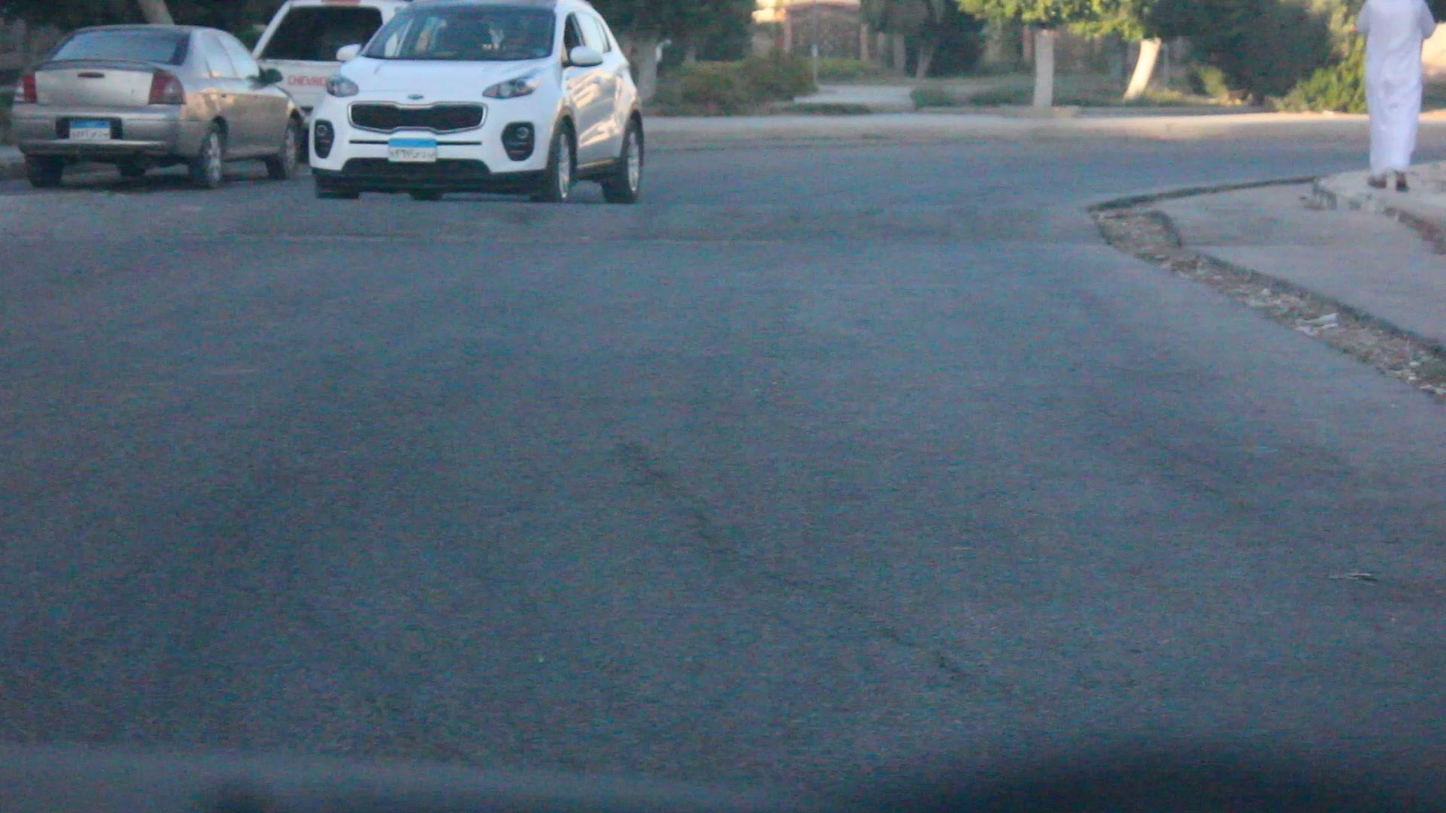Bump: (0, 182, 1103, 242)
